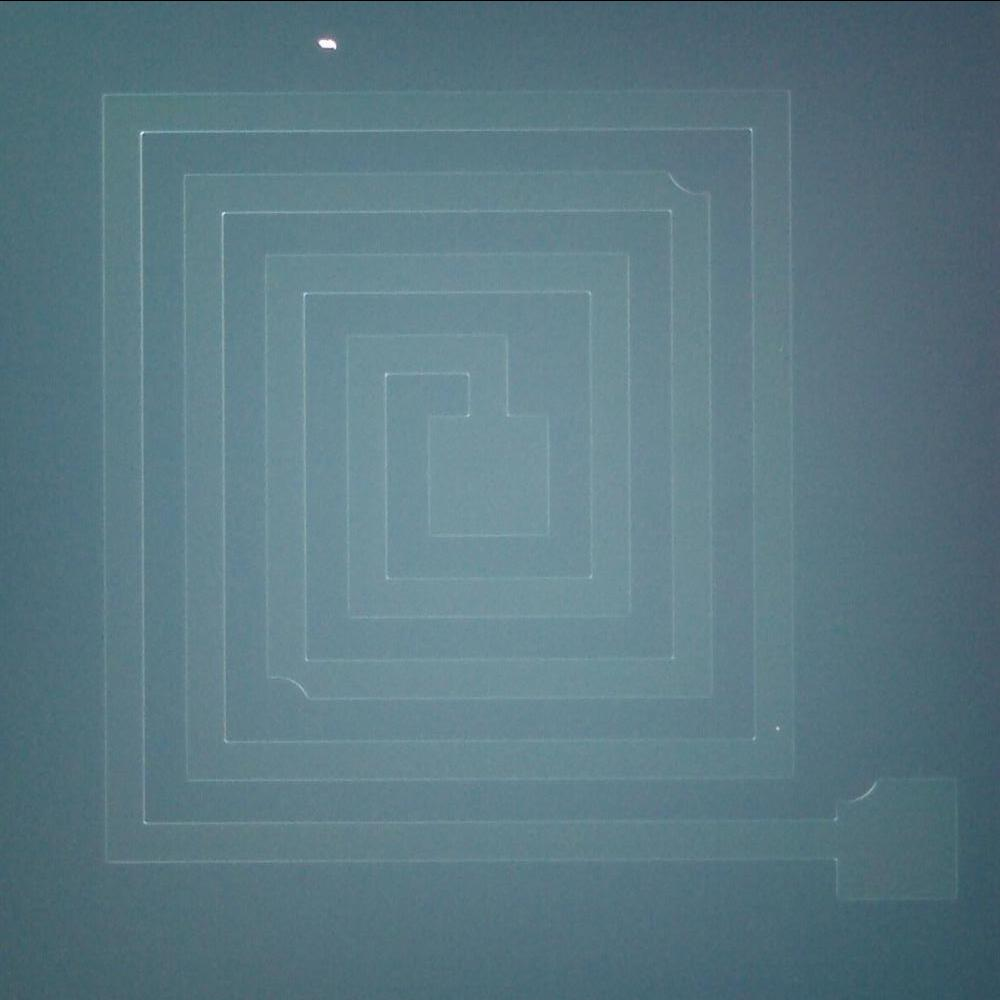curve circuit: (823, 750, 893, 818), (653, 157, 720, 202), (257, 666, 317, 706)
spot: (312, 33, 342, 54)
